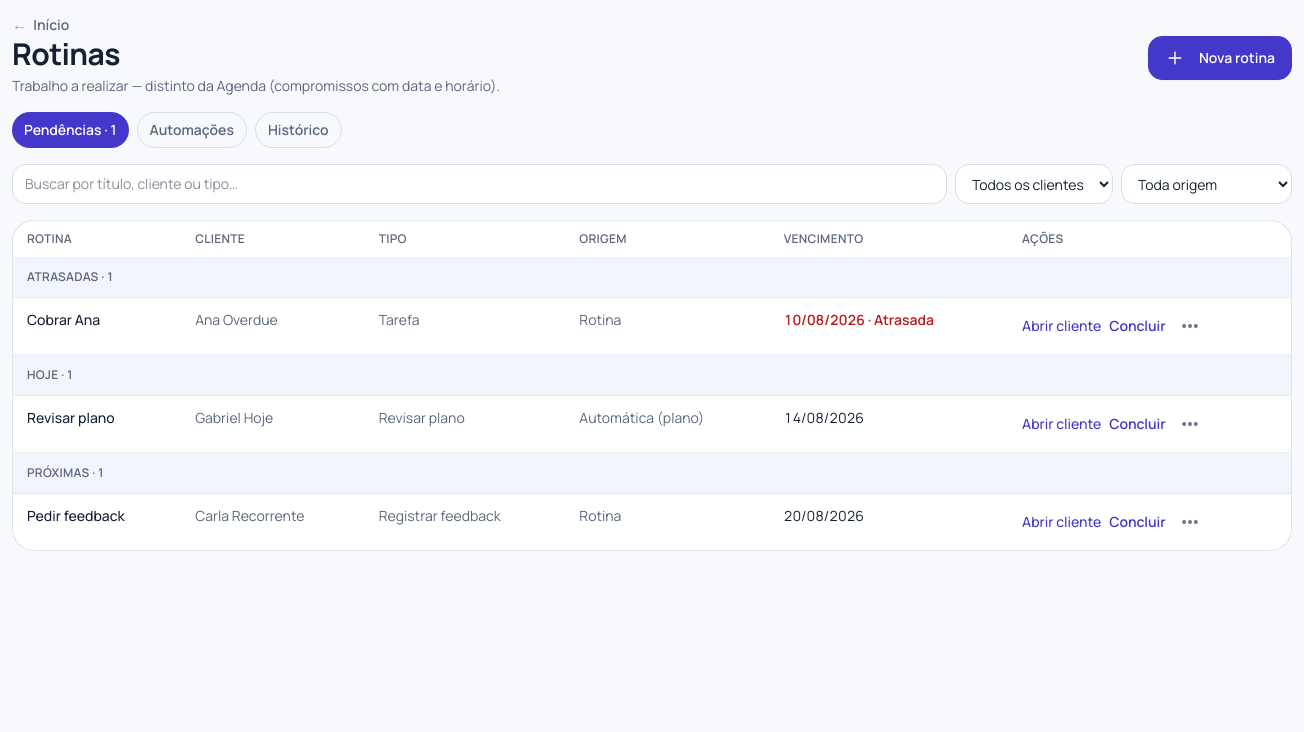
it: RoutinesPageInner desktop — central de trabalho densa › search narrows the list by client name
Check: the text "Ana Overdue" is shown, box [181,298,365,354]
Type "Gabriel" into the search field named "Buscar rotina" at (480, 184), box [12,164,947,204]
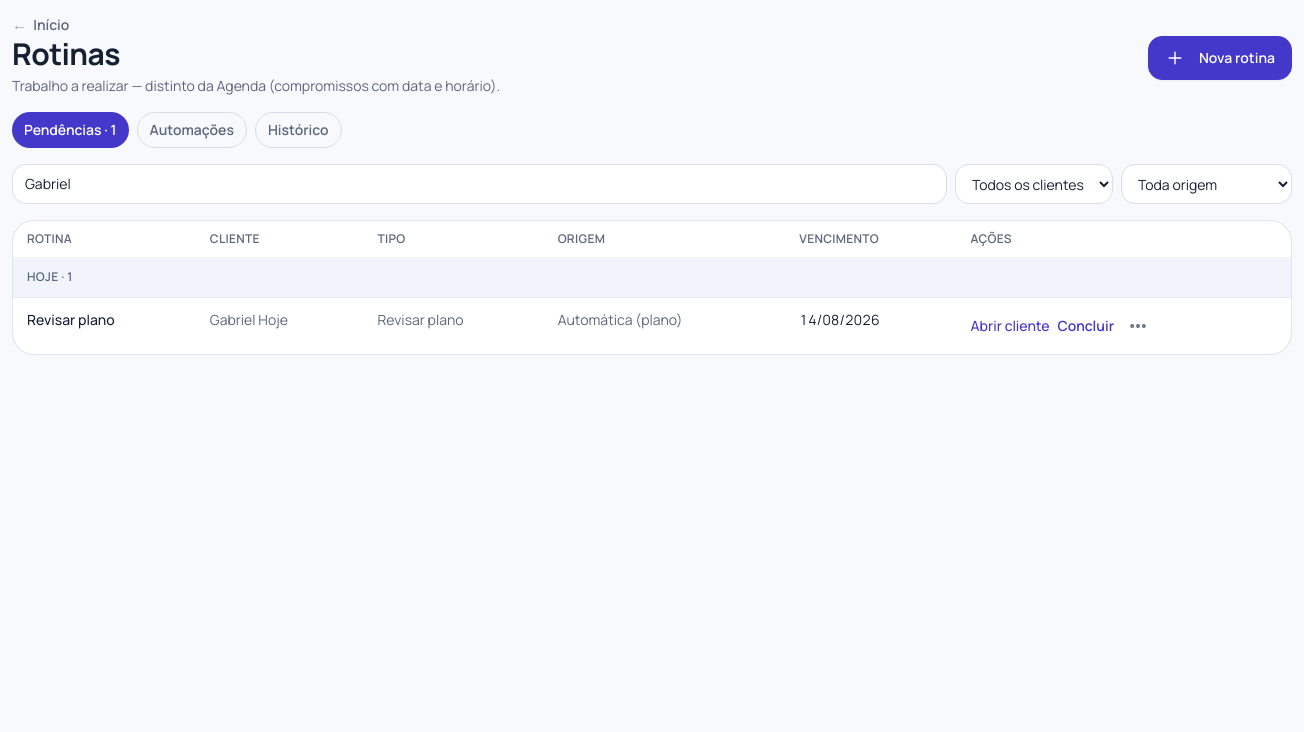
Check: the text "Gabriel Hoje" is shown, box [196,298,364,354]
Check: the text "Ana Overdue" is gone
